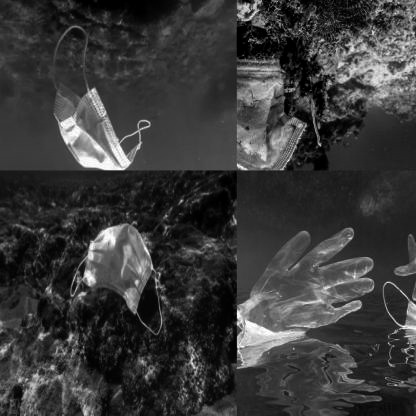Mask: (51, 25, 152, 170), (237, 23, 325, 170), (66, 225, 163, 335), (375, 278, 415, 364)
glove: (237, 194, 378, 387), (383, 197, 415, 300)
